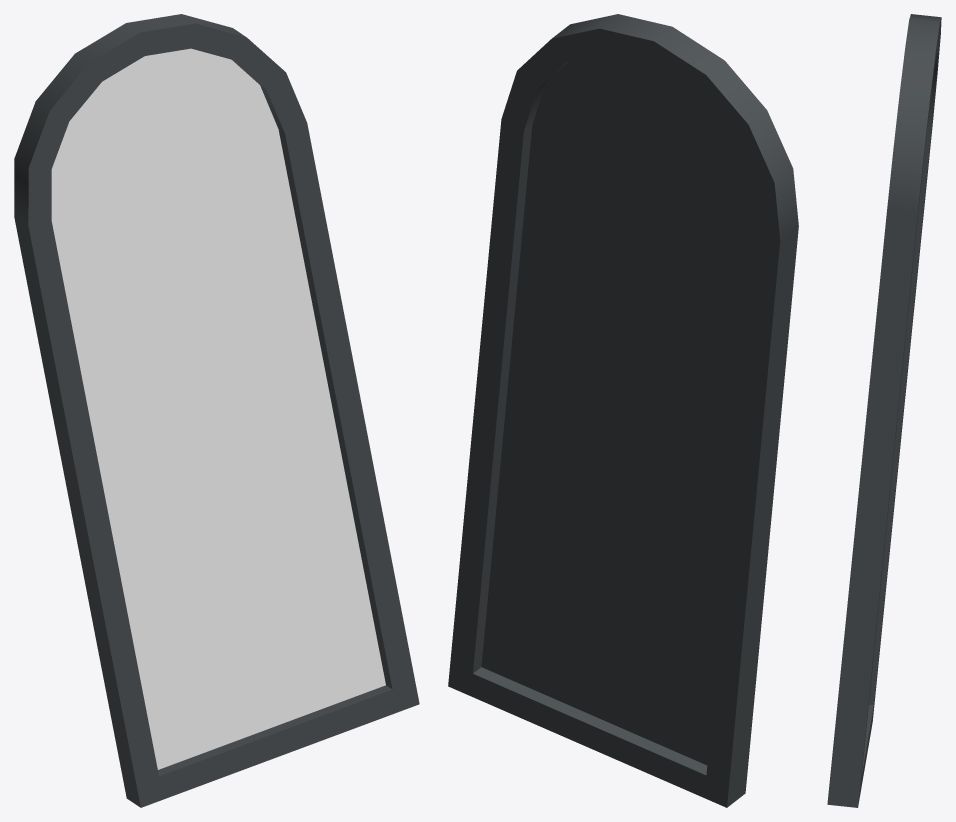
Rendered from SM_Prop_Mirror_Lobby_01.obj.
3 renders of one model, left to right at view 1: azimuth 30°, elevation 25°; view 2: azimuth 150°, elevation 25°; view 3: azimuth 270°, elevation 25°, orthographic. The views are drawn at different scales.
Parts seen in each view (by area): view 1: SM_Prop_Mirror_Lobby_01_Mat_Mirror, SM_Prop_Mirror_Lobby_01_Mat_SwatchOverlay_PolygonTown_01_Inst; view 2: SM_Prop_Mirror_Lobby_01_Mat_SwatchOverlay_PolygonTown_01_Inst; view 3: SM_Prop_Mirror_Lobby_01_Mat_SwatchOverlay_PolygonTown_01_Inst.
Boxes of the visible parts, <box> form: SM_Prop_Mirror_Lobby_01_Mat_Mirror: <box>51,48,385,769</box>; SM_Prop_Mirror_Lobby_01_Mat_SwatchOverlay_PolygonTown_01_Inst: <box>14,14,419,807</box>; SM_Prop_Mirror_Lobby_01_Mat_SwatchOverlay_PolygonTown_01_Inst: <box>448,14,798,807</box>; SM_Prop_Mirror_Lobby_01_Mat_SwatchOverlay_PolygonTown_01_Inst: <box>827,14,941,807</box>.
Size of the model in its own units: 0.9516 by 1.91 by 0.2755.
Materials: 2 (1 with a texture image).
